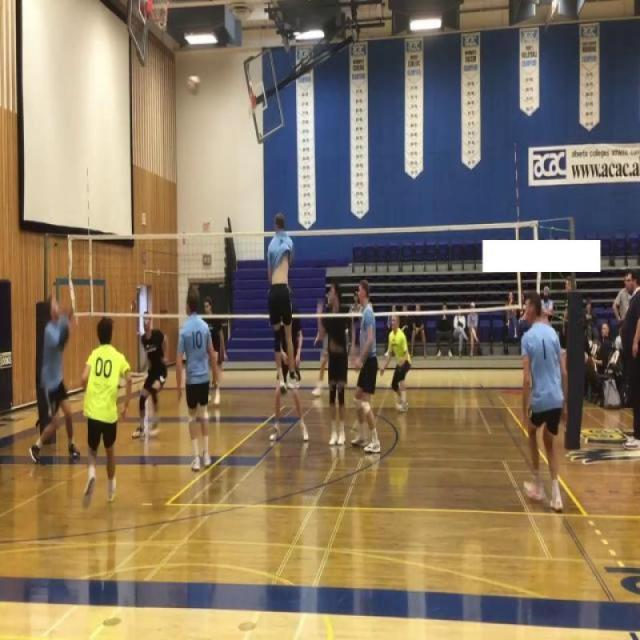volleyball: (187, 74, 201, 98)
